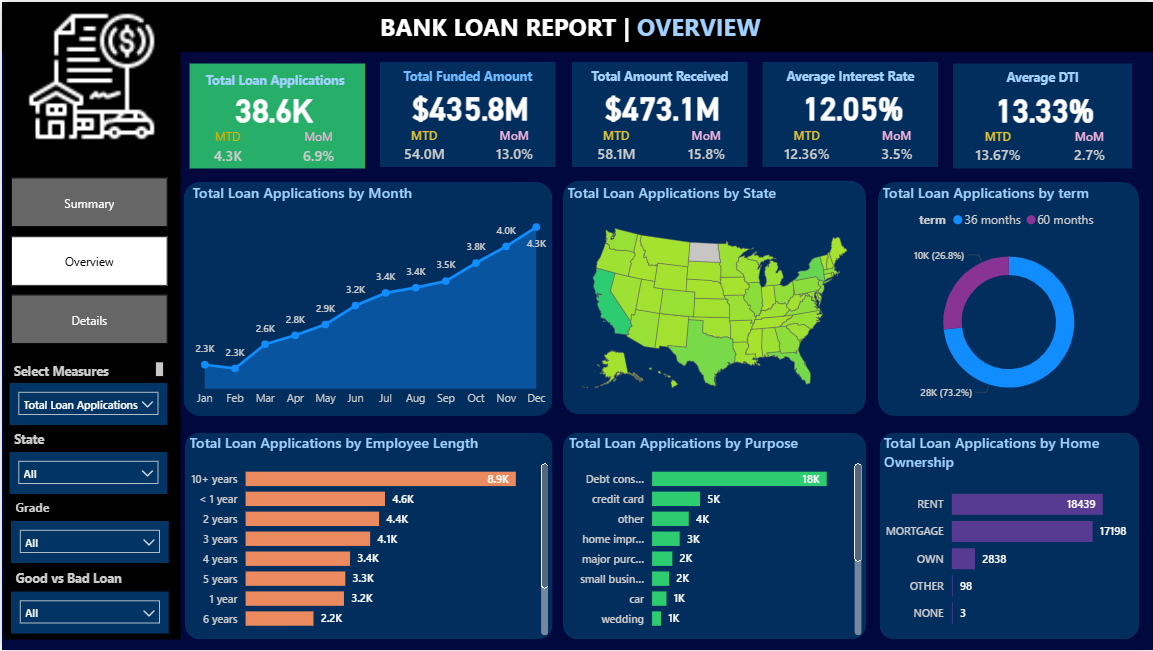

The dashboard page shown, as its layout file describes it:
{"tool":"powerbi","page":{"name":"Overview","canvas":[1280,720],"ordinal":1},"visuals":[{"type":"shape","box":[420.4,66.7,195,116.7],"z":0,"group":"g2"},{"type":"shape","box":[632.5,66.7,195,116.7],"z":0,"group":"g3"},{"type":"shape","box":[844.6,66.7,195,116.7],"z":0,"group":"g4"},{"type":"shape","box":[207.1,68.3,195,116.7],"z":0,"group":"g1"},{"type":"shape","box":[1056.7,68.3,199,116.7],"z":0,"group":"g5"},{"type":"shape","box":[201.7,200,410,260],"z":0},{"type":"slicer","title":"State","fields":{"Values":["Select Measure.Select Measure"]},"box":[8.6,423.1,175,46.7],"z":0,"group":"g10"},{"type":"slicer","title":"State","fields":{"Values":["bank_loan_data.address_state"]},"box":[8.6,500,175,46.7],"z":0,"group":"g13"},{"type":"slicer","title":"State","fields":{"Values":["bank_loan_data.grade"]},"box":[10,577.1,175,46.7],"z":0,"group":"g11"},{"type":"slicer","title":"State","fields":{"Values":["bank_loan_data.Good vs Bad Loan"]},"box":[10.5,656.1,175,46.7],"z":0,"group":"g12"},{"type":"shape","box":[1.7,41.7,196.7,666.7],"z":1000},{"type":"card","fields":{"Values":["Measure Table.Total Funded Amount"]},"box":[450.4,93.4,140,45],"z":1000,"group":"g2"},{"type":"card","fields":{"Values":["Measure Table.Total Amount Received"]},"box":[662.5,93.4,140,45],"z":1000,"group":"g3"},{"type":"card","fields":{"Values":["Measure Table.Average Interest Rate"]},"box":[874.6,93.4,140,45],"z":1000,"group":"g4"},{"type":"card","fields":{"Values":["Measure Table.Total Loan Applications"]},"box":[216.1,94.4,170,45],"z":1000,"group":"g1"},{"type":"card","fields":{"Values":["Measure Table.Average DTI"]},"box":[1087.3,95,142.9,45],"z":1000,"group":"g5"},{"type":"textbox","box":[9.1,394.3,175.6,25.6],"z":1000,"group":"g10"},{"type":"textbox","box":[8.6,470,76.7,30],"z":1000,"group":"g13"},{"type":"textbox","box":[10,547.1,76.7,30],"z":1000,"group":"g11"},{"type":"textbox","box":[10,625.7,181.7,33.3],"z":1000,"group":"g12"},{"type":"shape","box":[0,0,1280,55.7],"z":2000},{"type":"textbox","box":[420.4,66.7,195,36.7],"z":2000,"group":"g2"},{"type":"textbox","box":[632.5,66.7,195,36.7],"z":2000,"group":"g3"},{"type":"textbox","box":[844.6,66.7,195,36.7],"z":2000,"group":"g4"},{"type":"textbox","box":[1056.7,68.3,199,36.7],"z":2000,"group":"g5"},{"type":"textbox","box":[202.6,71.1,200,31.7],"z":2000,"group":"g1"},{"type":"textbox","box":[415,3.3,448.3,50],"z":3000},{"type":"card","title":"MTD","fields":{"Values":["Measure Table.MTD Funded Amount"]},"box":[435.4,138.4,68.3,45],"z":3000,"group":"g2"},{"type":"card","title":"MTD","fields":{"Values":["Measure Table.MTD Amount Received"]},"box":[647.5,138.4,68.3,45],"z":3000,"group":"g3"},{"type":"card","title":"MTD","fields":{"Values":["Measure Table.MTD Average Interest Rate"]},"box":[859.6,138.4,68.3,45],"z":3000,"group":"g4"},{"type":"card","title":"MTD","fields":{"Values":["Measure Table.MTD Loan Applications"]},"box":[196.1,139.4,108.3,46.7],"z":3000,"group":"g1"},{"type":"card","title":"MTD","fields":{"Values":["Measure Table.MTD Average DTI"]},"box":[1072,140,69.7,45],"z":3000,"group":"g5"},{"type":"group","id":"g1","title":"Group 2","box":[196.1,68.3,206.7,117.8],"z":4000},{"type":"card","title":"MoM","fields":{"Values":["Measure Table.MOM Funded Amount"]},"box":[535.4,138.4,68.3,45],"z":4000,"group":"g2"},{"type":"card","title":"MoM","fields":{"Values":["Measure Table.MoM Amount Received"]},"box":[747.5,138.4,68.3,45],"z":4000,"group":"g3"},{"type":"card","title":"MoM","fields":{"Values":["Measure Table.MoM Average Interest Rate"]},"box":[959.6,138.4,68.3,45],"z":4000,"group":"g4"},{"type":"card","title":"MoM","fields":{"Values":["Measure Table.MOM Loan Applications"]},"box":[299.4,139.4,103.3,46.7],"z":4000,"group":"g1"},{"type":"card","title":"MoM","fields":{"Values":["Measure Table.MoM Average DTI"]},"box":[1174.1,140,69.7,45],"z":4000,"group":"g5"},{"type":"group","id":"g2","title":"Group 1","box":[420.4,66.7,195,116.7],"z":4001,"group":"g6"},{"type":"group","id":"g3","title":"Group 1","box":[632.5,66.7,195,116.7],"z":4001,"group":"g7"},{"type":"group","id":"g4","title":"Group 1","box":[844.6,66.7,195,116.7],"z":4001,"group":"g9"},{"type":"group","id":"g5","title":"Group 1","box":[1056.7,68.3,199,116.7],"z":4001,"group":"g8"},{"type":"group","id":"g6","title":"Group 3","box":[420.4,66.7,195,116.7],"z":5000},{"type":"group","id":"g7","title":"Group 3","box":[632.5,66.7,195,116.7],"z":6000},{"type":"group","id":"g8","title":"Group 3","box":[1056.7,68.3,199,116.7],"z":7000},{"type":"group","id":"g9","title":"Group 3","box":[844.6,66.7,195,116.7],"z":8000},{"type":"shape","box":[623.3,198.3,336.7,260],"z":9000},{"type":"shape","box":[203.3,478.3,408.3,230],"z":10000},{"type":"group","id":"g10","title":"Group 5","box":[8.6,394.3,175.7,75.7],"z":11000},{"type":"group","id":"g11","title":"Group 5","box":[10,547.1,175.7,77.1],"z":12000},{"type":"group","id":"g12","title":"Group 5","box":[10,625.7,181.4,77.1],"z":13000},{"type":"areaChart","fields":{"Y":["Measure Table.Total Loan Applications"],"Category":["Date Table.Month"]},"box":[206.7,200,405,258.3],"z":14000},{"type":"group","id":"g13","title":"Group 5","box":[8.6,470,175.7,77.1],"z":15000},{"type":"shapeMap","fields":{"Value":["Measure Table.Total Loan Applications"],"Category":["bank_loan_data.address_state"]},"box":[623.3,200,336.7,258.3],"z":16000},{"type":"shape","box":[973.3,200,290,260],"z":17000},{"type":"donutChart","fields":{"Y":["Measure Table.Total Loan Applications"],"Category":["bank_loan_data.term"]},"box":[973.3,200,290,260],"z":18000},{"type":"shape","box":[623.3,478.3,336.7,230],"z":19000},{"type":"barChart","fields":{"Y":["Measure Table.Total Loan Applications"],"Category":["bank_loan_data.emp_length"]},"box":[203.3,478.3,408.3,230],"z":20000},{"type":"barChart","fields":{"Y":["Measure Table.Total Loan Applications"],"Category":["bank_loan_data.purpose"]},"box":[625,478.3,335,230],"z":21000},{"type":"shape","box":[975,478.3,288.3,230],"z":22000},{"type":"barChart","fields":{"Y":["Measure Table.Total Loan Applications"],"Category":["bank_loan_data.home_ownership"]},"box":[975,478.3,288.3,230],"z":23000},{"type":"image","box":[8.6,2.9,182.9,158.6],"z":24000},{"type":"pageNavigator","box":[10,194.3,174.3,187.1],"z":25000}]}

Visuals, with their boxes in screenshot pixels (x1, y1, x2, y2), scaled from the page's 1280x720 canvas onto the 1153x651 screenshot:
shape: pyautogui.locateOnScreen(379, 60, 554, 166)
shape: pyautogui.locateOnScreen(570, 60, 745, 166)
shape: pyautogui.locateOnScreen(761, 60, 936, 166)
shape: pyautogui.locateOnScreen(187, 62, 362, 167)
shape: pyautogui.locateOnScreen(952, 62, 1131, 167)
shape: pyautogui.locateOnScreen(182, 181, 551, 416)
"State" slicer: pyautogui.locateOnScreen(8, 383, 165, 425)
"State" slicer: pyautogui.locateOnScreen(8, 452, 165, 494)
"State" slicer: pyautogui.locateOnScreen(9, 522, 167, 564)
"State" slicer: pyautogui.locateOnScreen(9, 593, 167, 635)
shape: pyautogui.locateOnScreen(2, 38, 179, 641)
card - Measure Table.Total Funded Amount: pyautogui.locateOnScreen(406, 84, 532, 125)
card - Measure Table.Total Amount Received: pyautogui.locateOnScreen(597, 84, 723, 125)
card - Measure Table.Average Interest Rate: pyautogui.locateOnScreen(788, 84, 914, 125)
card - Measure Table.Total Loan Applications: pyautogui.locateOnScreen(195, 85, 348, 126)
card - Measure Table.Average DTI: pyautogui.locateOnScreen(979, 86, 1108, 127)
textbox: pyautogui.locateOnScreen(8, 357, 166, 380)
textbox: pyautogui.locateOnScreen(8, 425, 77, 452)
textbox: pyautogui.locateOnScreen(9, 495, 78, 522)
textbox: pyautogui.locateOnScreen(9, 566, 173, 596)
shape: pyautogui.locateOnScreen(0, 0, 1152, 50)
textbox: pyautogui.locateOnScreen(379, 60, 554, 93)
textbox: pyautogui.locateOnScreen(570, 60, 745, 93)
textbox: pyautogui.locateOnScreen(761, 60, 936, 93)
textbox: pyautogui.locateOnScreen(952, 62, 1131, 95)
textbox: pyautogui.locateOnScreen(182, 64, 363, 93)
textbox: pyautogui.locateOnScreen(374, 3, 778, 48)
"MTD" card: pyautogui.locateOnScreen(392, 125, 454, 166)
"MTD" card: pyautogui.locateOnScreen(583, 125, 645, 166)
"MTD" card: pyautogui.locateOnScreen(774, 125, 836, 166)
"MTD" card: pyautogui.locateOnScreen(177, 126, 274, 168)
"MTD" card: pyautogui.locateOnScreen(966, 127, 1028, 167)
"Group 2" group: pyautogui.locateOnScreen(177, 62, 363, 168)
"MoM" card: pyautogui.locateOnScreen(482, 125, 544, 166)
"MoM" card: pyautogui.locateOnScreen(673, 125, 735, 166)
"MoM" card: pyautogui.locateOnScreen(864, 125, 926, 166)
"MoM" card: pyautogui.locateOnScreen(270, 126, 363, 168)
"MoM" card: pyautogui.locateOnScreen(1058, 127, 1120, 167)
"Group 1" group: pyautogui.locateOnScreen(379, 60, 554, 166)
"Group 1" group: pyautogui.locateOnScreen(570, 60, 745, 166)
"Group 1" group: pyautogui.locateOnScreen(761, 60, 936, 166)
"Group 1" group: pyautogui.locateOnScreen(952, 62, 1131, 167)
"Group 3" group: pyautogui.locateOnScreen(379, 60, 554, 166)
"Group 3" group: pyautogui.locateOnScreen(570, 60, 745, 166)
"Group 3" group: pyautogui.locateOnScreen(952, 62, 1131, 167)
"Group 3" group: pyautogui.locateOnScreen(761, 60, 936, 166)
shape: pyautogui.locateOnScreen(561, 179, 865, 414)
shape: pyautogui.locateOnScreen(183, 432, 551, 640)
"Group 5" group: pyautogui.locateOnScreen(8, 357, 166, 425)
"Group 5" group: pyautogui.locateOnScreen(9, 495, 167, 564)
"Group 5" group: pyautogui.locateOnScreen(9, 566, 172, 635)
areaChart - Measure Table.Total Loan Applications x Date Table.Month: pyautogui.locateOnScreen(186, 181, 551, 414)
"Group 5" group: pyautogui.locateOnScreen(8, 425, 166, 495)
shapeMap - Measure Table.Total Loan Applications x bank_loan_data.address_state: pyautogui.locateOnScreen(561, 181, 865, 414)
shape: pyautogui.locateOnScreen(877, 181, 1138, 416)
donutChart - Measure Table.Total Loan Applications x bank_loan_data.term: pyautogui.locateOnScreen(877, 181, 1138, 416)
shape: pyautogui.locateOnScreen(561, 432, 865, 640)
barChart - Measure Table.Total Loan Applications x bank_loan_data.emp_length: pyautogui.locateOnScreen(183, 432, 551, 640)
barChart - Measure Table.Total Loan Applications x bank_loan_data.purpose: pyautogui.locateOnScreen(563, 432, 865, 640)
shape: pyautogui.locateOnScreen(878, 432, 1138, 640)
barChart - Measure Table.Total Loan Applications x bank_loan_data.home_ownership: pyautogui.locateOnScreen(878, 432, 1138, 640)
image: pyautogui.locateOnScreen(8, 3, 172, 146)
pageNavigator: pyautogui.locateOnScreen(9, 176, 166, 345)
